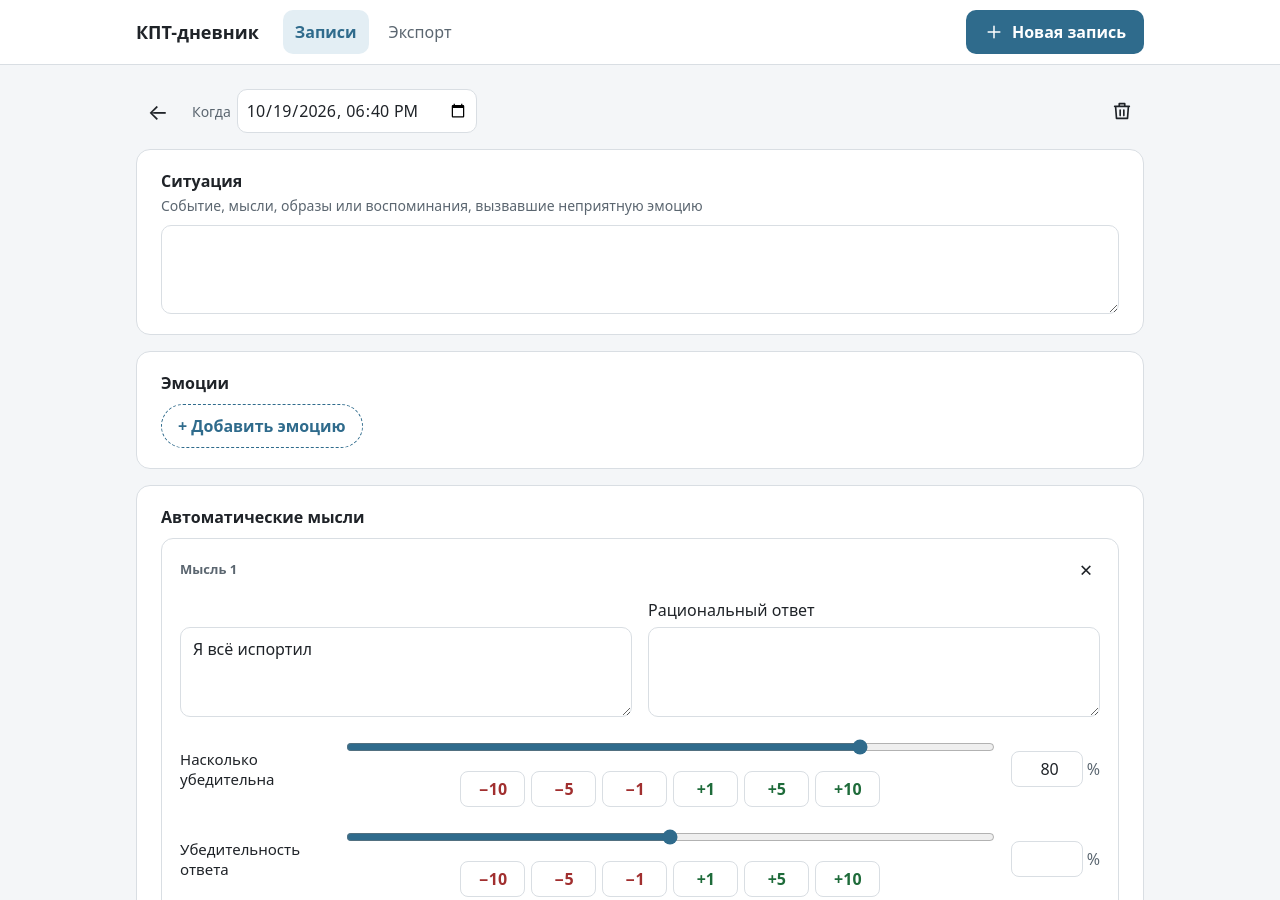
Test case: shows hint for unfinished thought
Type "Один промах не значит всё" into the text box labelled "Рациональный ответ" at point(874, 672), box [648,627,1100,717]
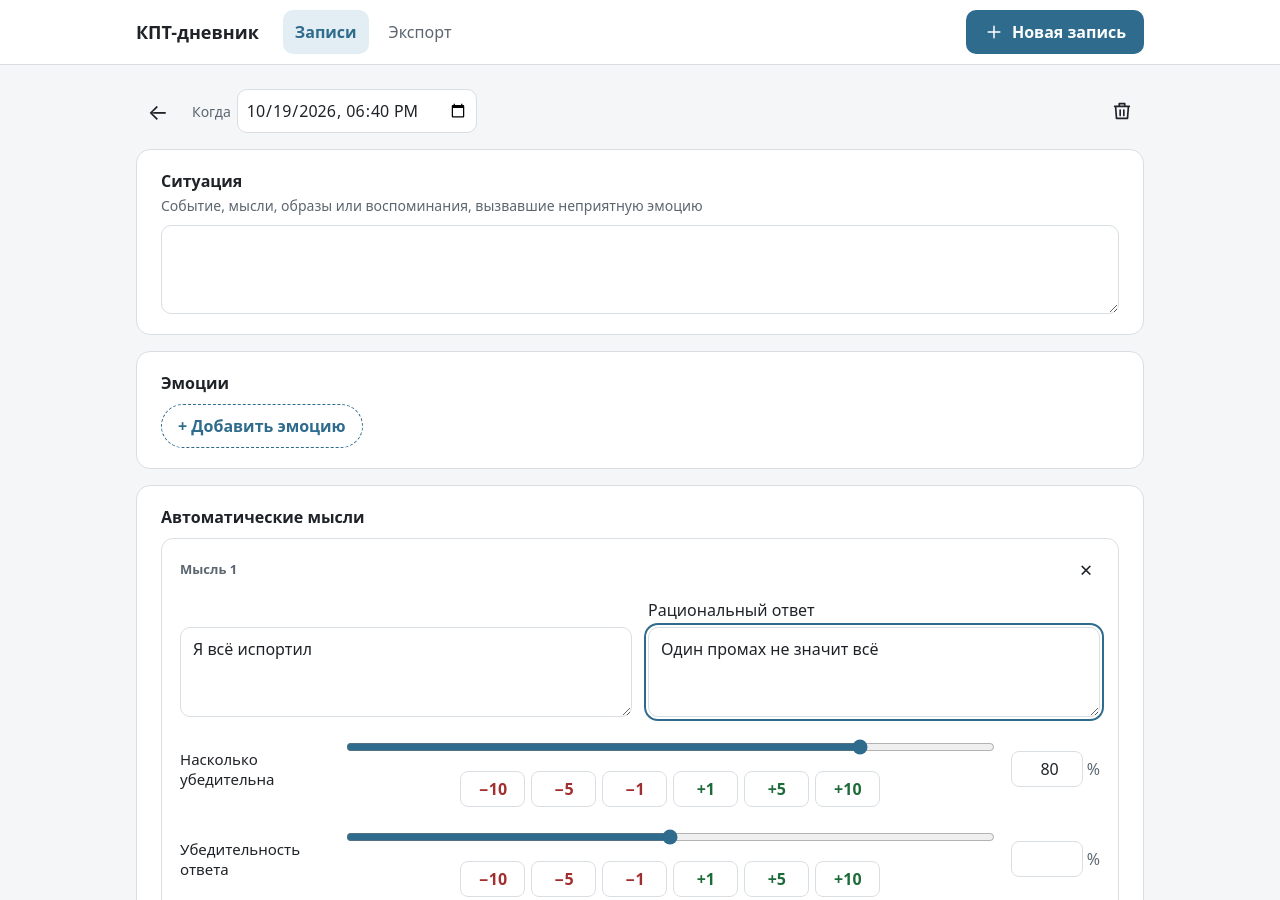
Click the 2nd button "+10" at point(848, 879), box [815,861,880,897]
(page scrolled)
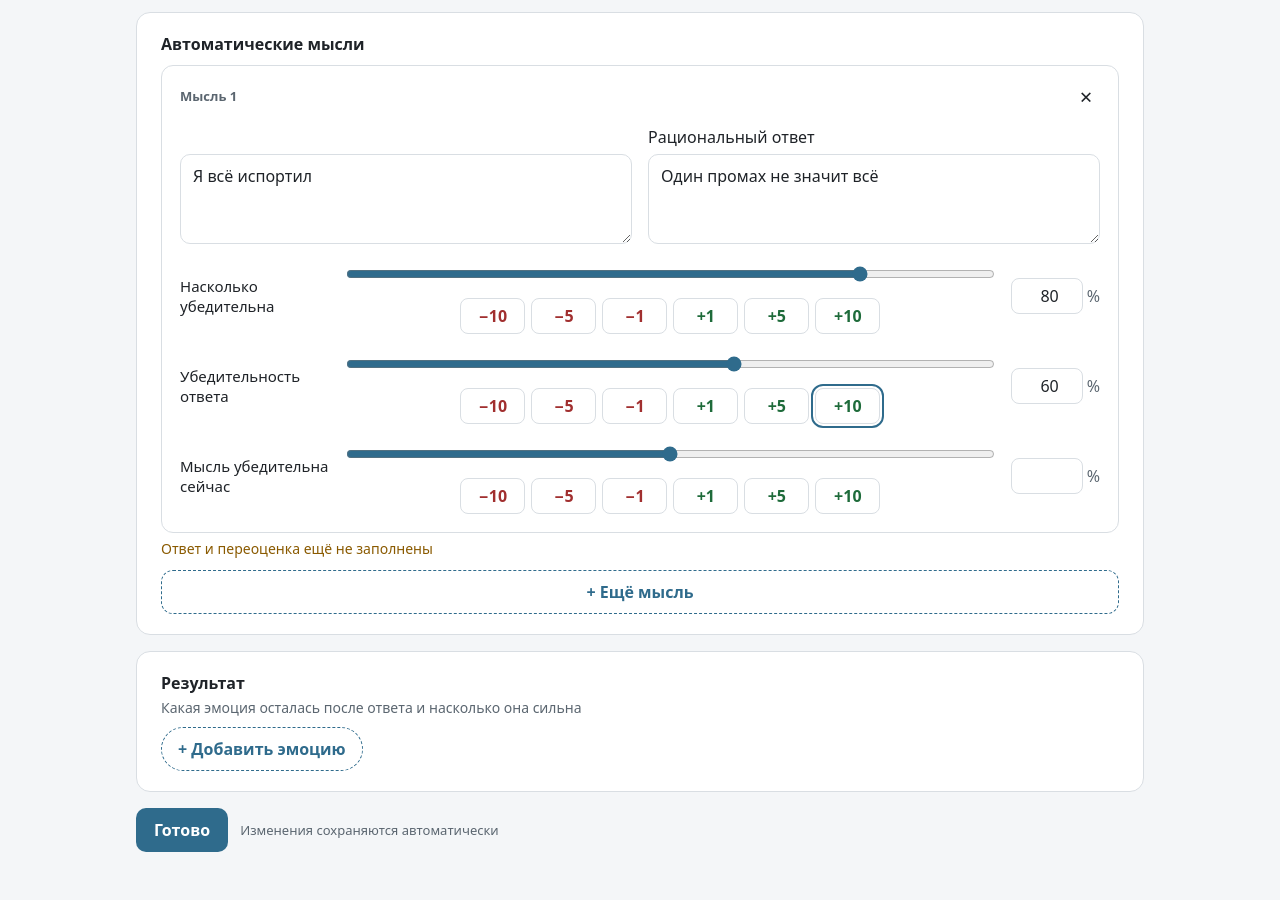
Expected: the text "Ответ и переоценка ещё не заполнены" is shown, [161,539,433,558]
Click the 3rd button "−10" at point(493, 496), box [460,478,525,514]
(page scrolled)
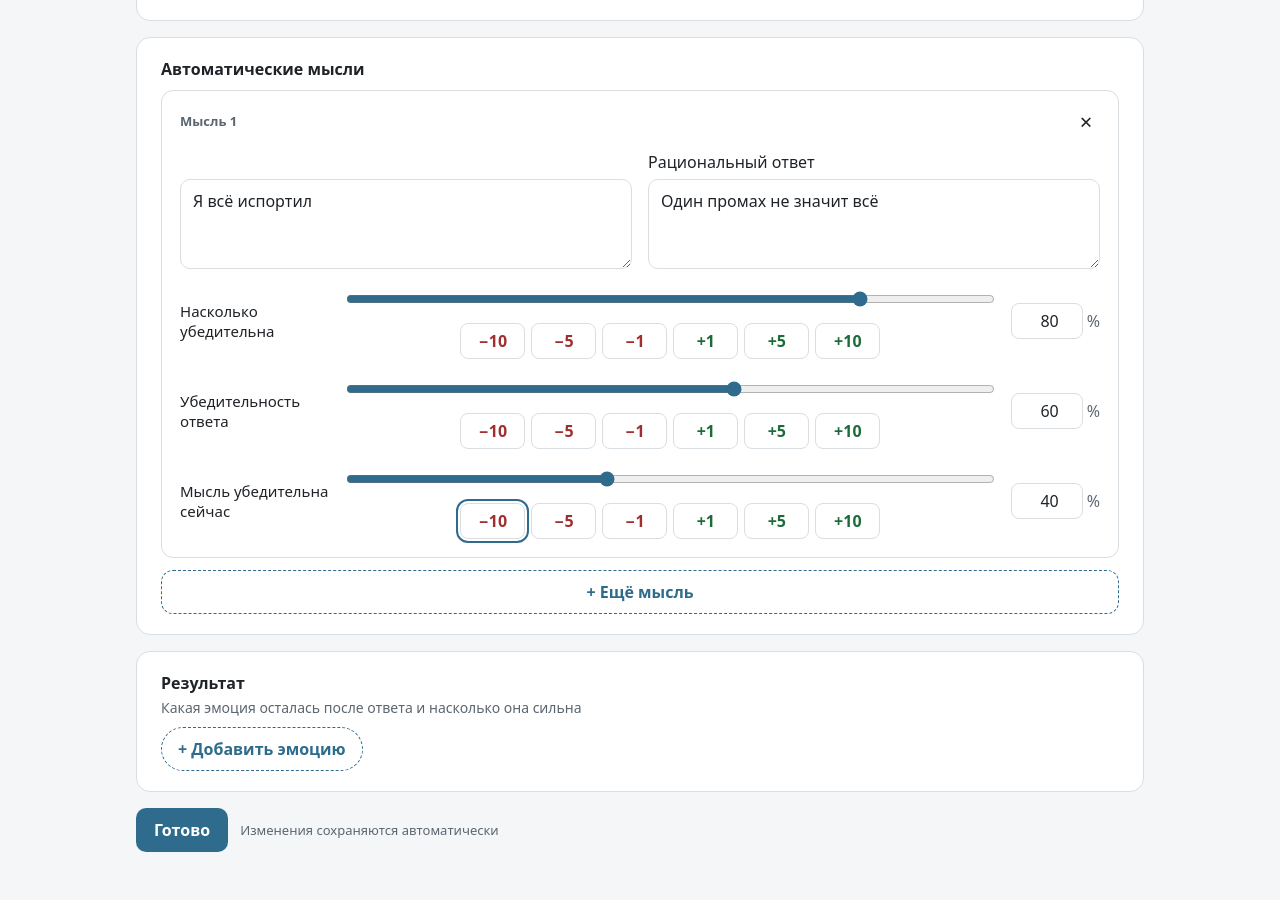
Expected: the text "Ответ и переоценка ещё не заполнены" is gone
